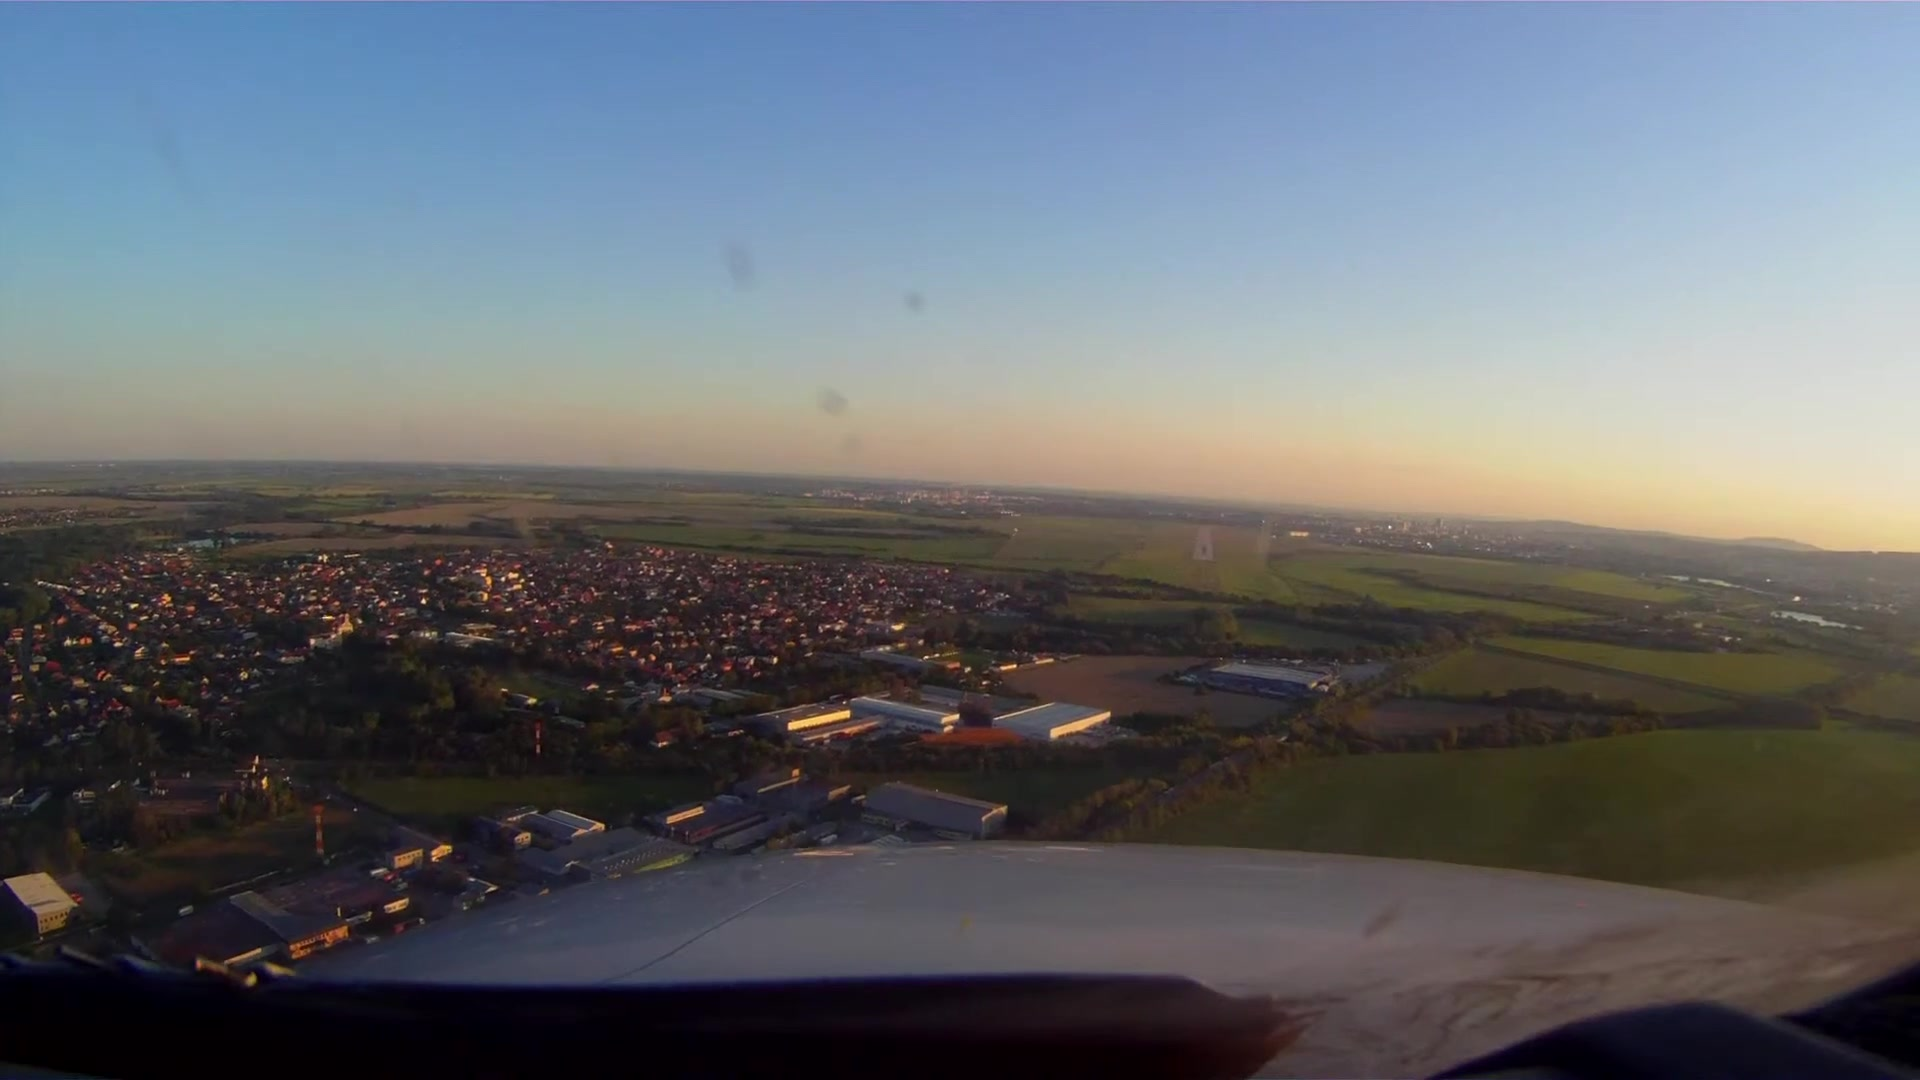runway: (1189, 524, 1218, 563)
